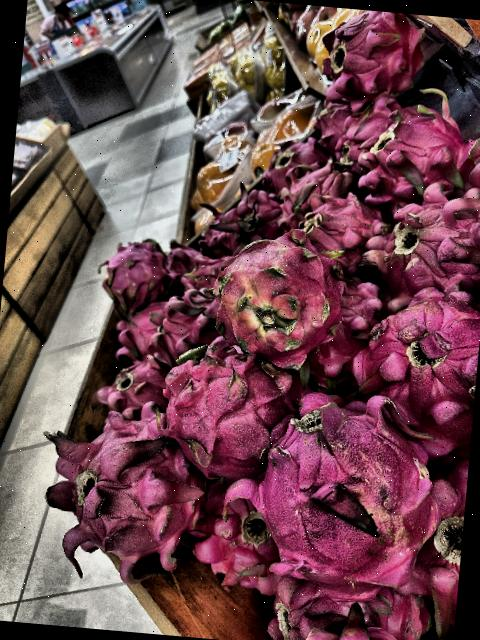buah-naga-belum-matang: (200, 238, 347, 368)
buah-naga-matang: (240, 388, 452, 594), (23, 409, 210, 576), (146, 340, 300, 472), (357, 286, 480, 437), (241, 563, 442, 640), (353, 180, 480, 300), (306, 5, 438, 110), (347, 103, 468, 205), (181, 472, 284, 588), (286, 179, 394, 274), (139, 293, 230, 373), (95, 233, 171, 310), (85, 361, 172, 422), (210, 182, 286, 246), (257, 136, 329, 188), (107, 299, 166, 361)
